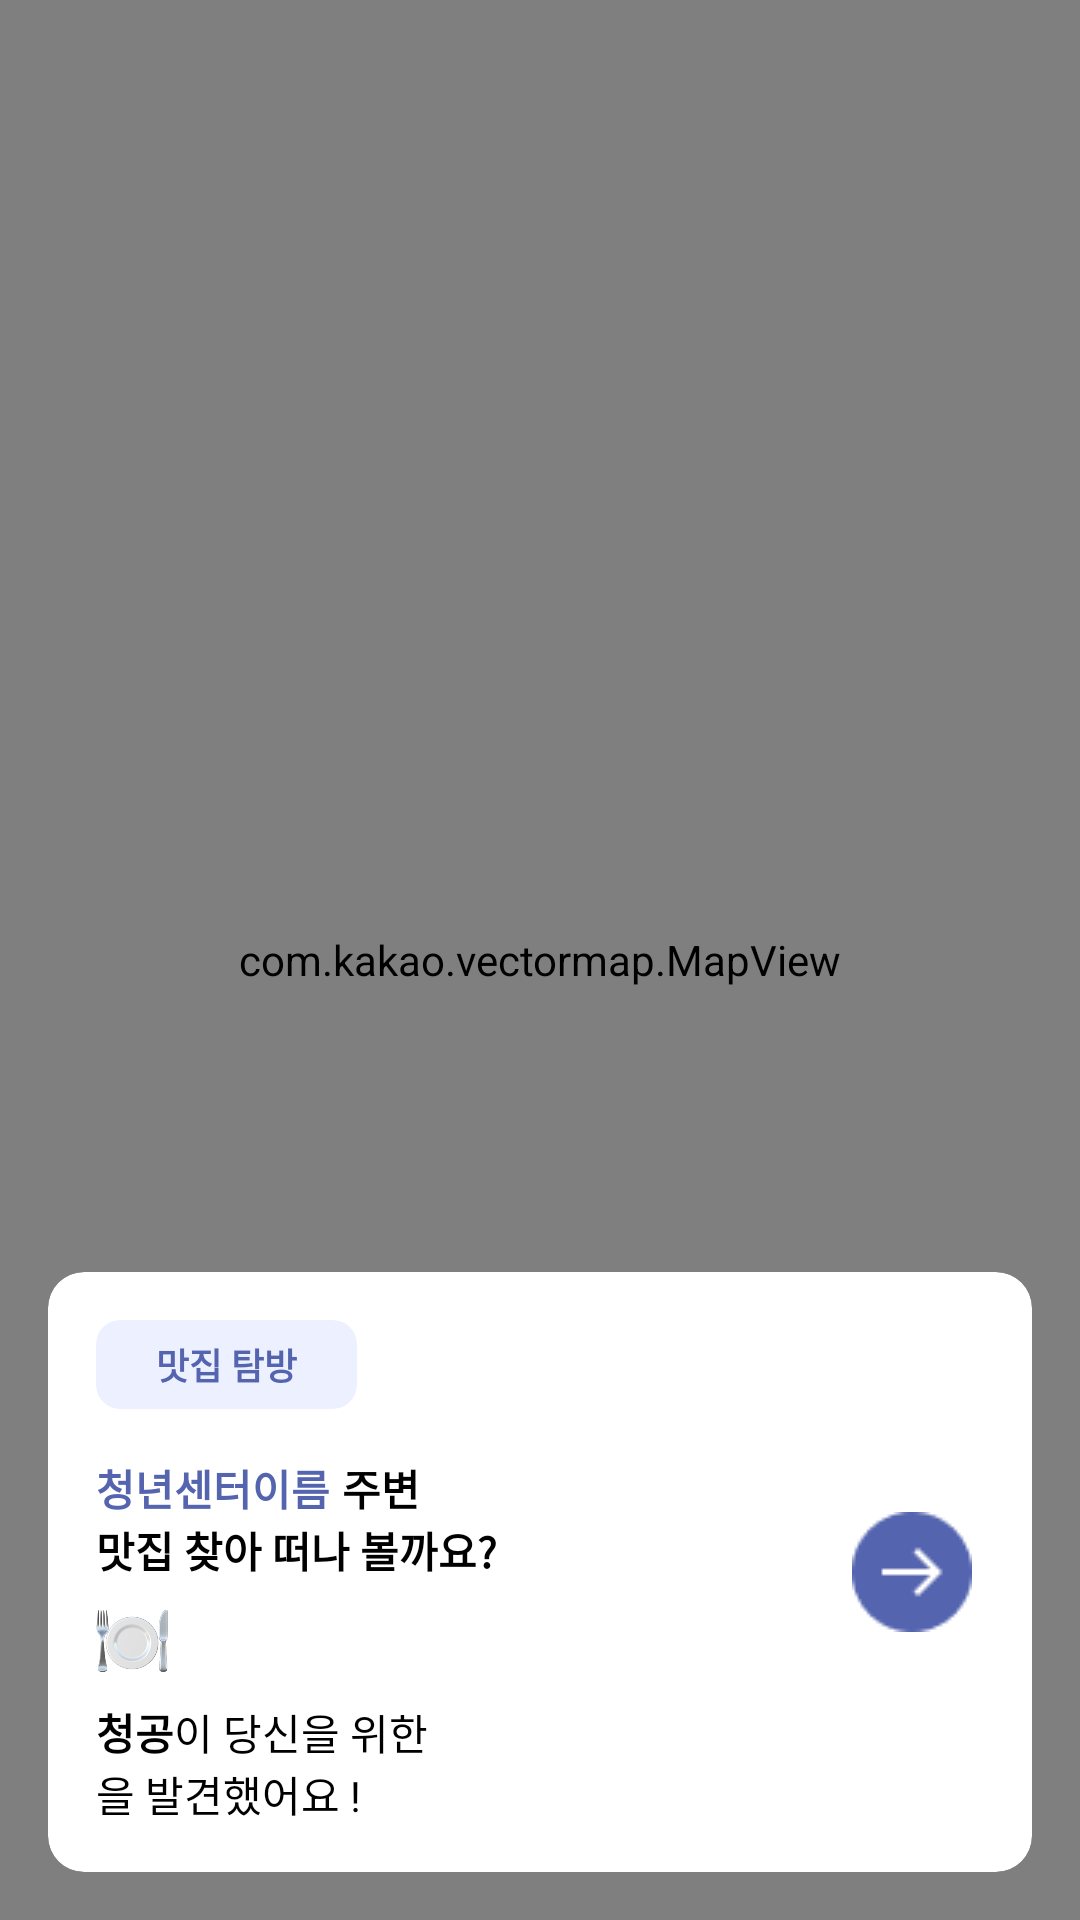

Where icons sit on this 1080w x 1920h app screen, as [x1, y1, x2, y2]:
food: [96, 1610, 168, 1672]
go to amenity list: [852, 1512, 972, 1632]
